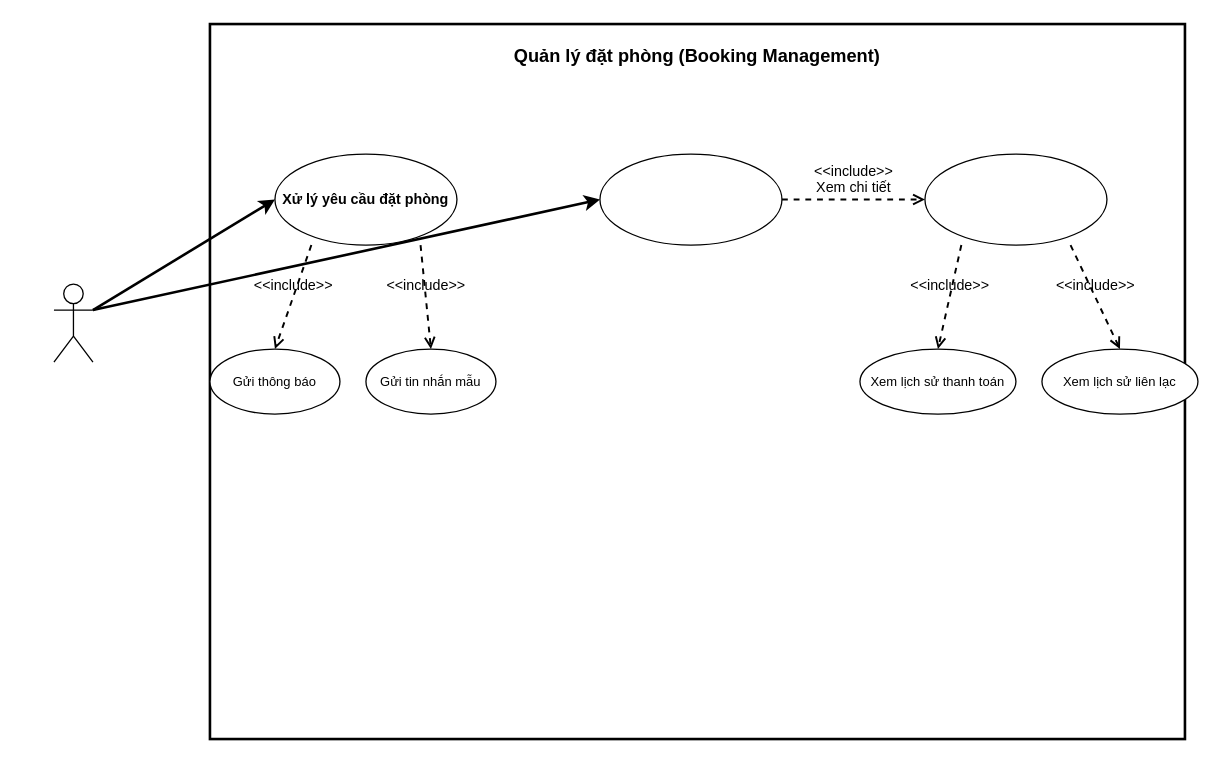
Some shapes in this 1221 by 762 pixel diagram are drawn without their labels. Each missing label, with the box of its shape:
Chủ Homestay: (53, 283, 93, 362)
Xem chi tiết đặt phòng: (924, 153, 1107, 245)
Xem danh sách đặt phòng: (599, 153, 782, 245)
